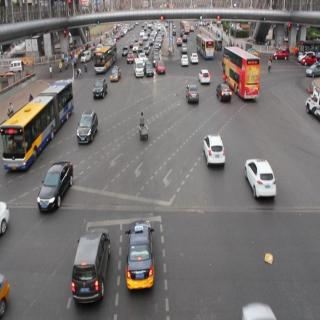BigCar: (18, 75, 68, 169), (223, 39, 255, 110)
Car: (36, 161, 75, 221), (125, 222, 156, 295), (73, 231, 105, 301), (242, 150, 282, 198), (202, 124, 227, 168), (182, 82, 206, 116), (80, 112, 96, 143), (94, 74, 110, 98), (107, 59, 122, 79), (134, 60, 144, 85)
